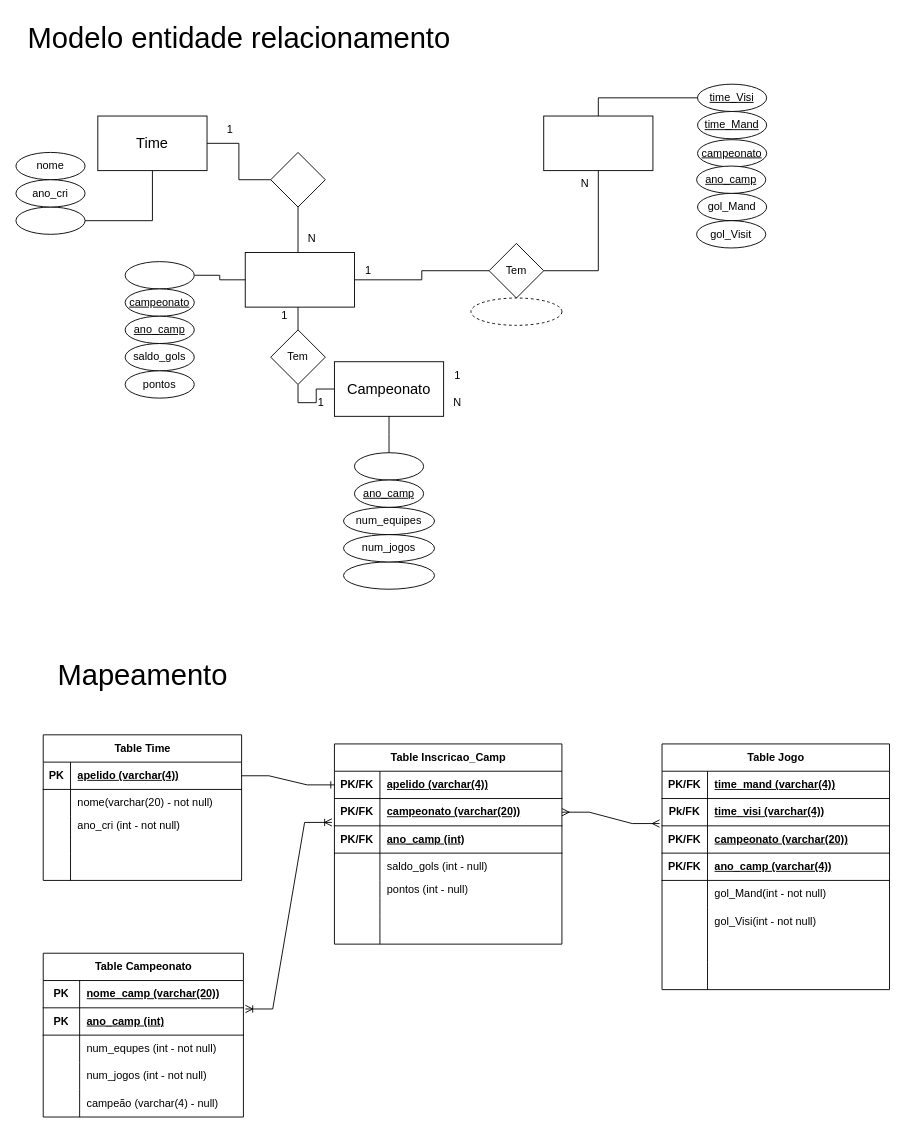
Image size: 905x1133. Some labels were removed from this diagram. Each missing label, with the centre of its shape:
"apelido" goes at (x=50, y=220).
"campeão" goes at (x=389, y=575).
"classificação" goes at (x=516, y=311).
"Faz" goes at (x=297, y=179).
"Inscrição/Camp." goes at (x=299, y=279).
"Jogo" goes at (x=598, y=143).
"nome_camp." goes at (x=389, y=466).
"siglatime" goes at (x=159, y=275).
